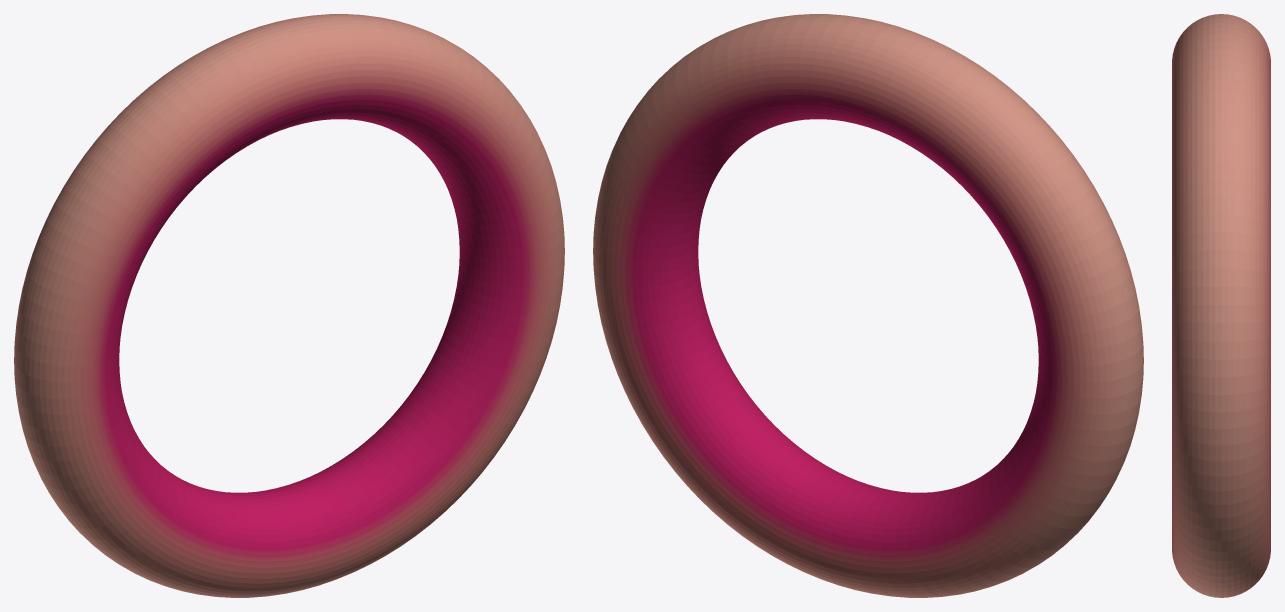
The picture shows the model from 3 angles, left to right: view 1: azimuth 30°, elevation 25°; view 2: azimuth 150°, elevation 25°; view 3: azimuth 270°, elevation 25°; orthographic projection. The views are drawn at different scales.
Parts seen in each view (by area): view 1: world; view 2: world; view 3: world.
Part boxes in pixels (x1=…): world: x1=14, y1=14, x2=564, y2=597; world: x1=593, y1=14, x2=1143, y2=597; world: x1=1172, y1=14, x2=1270, y2=597.
Size of the model in its own units: 35.33 by 35.33 by 5.99.
